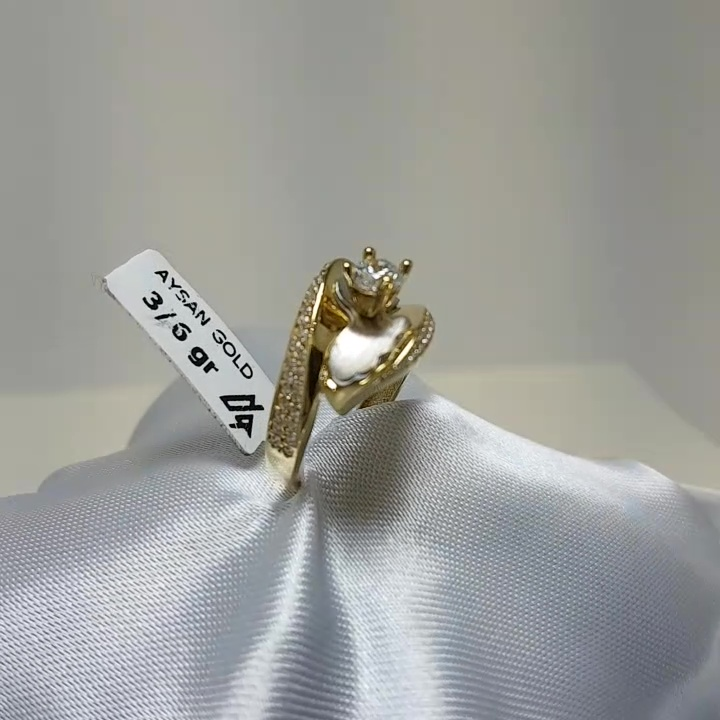Ring 6: (240, 235, 464, 510)
